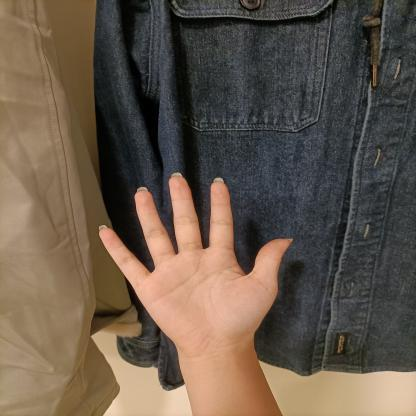bare_hand: (89, 167, 306, 367)
